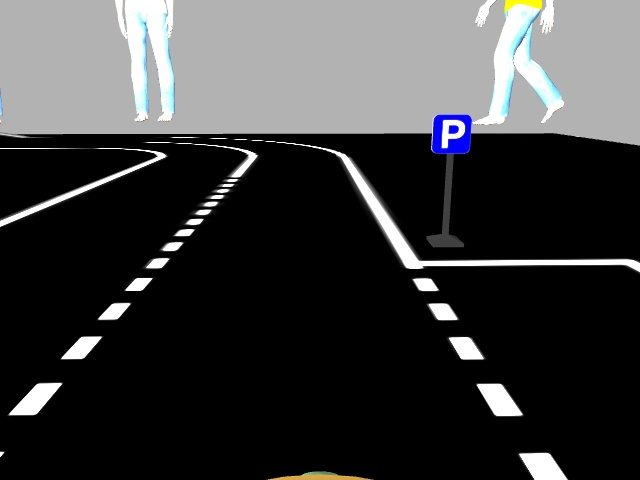Parking: (428, 114, 472, 155)
